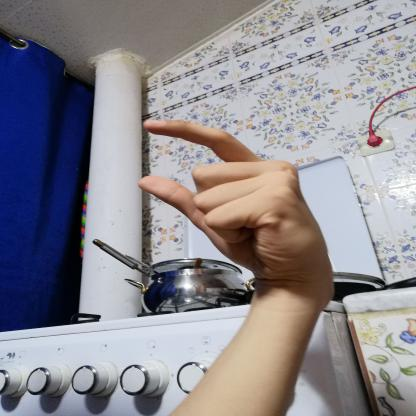DELL: (121, 108, 346, 291)
